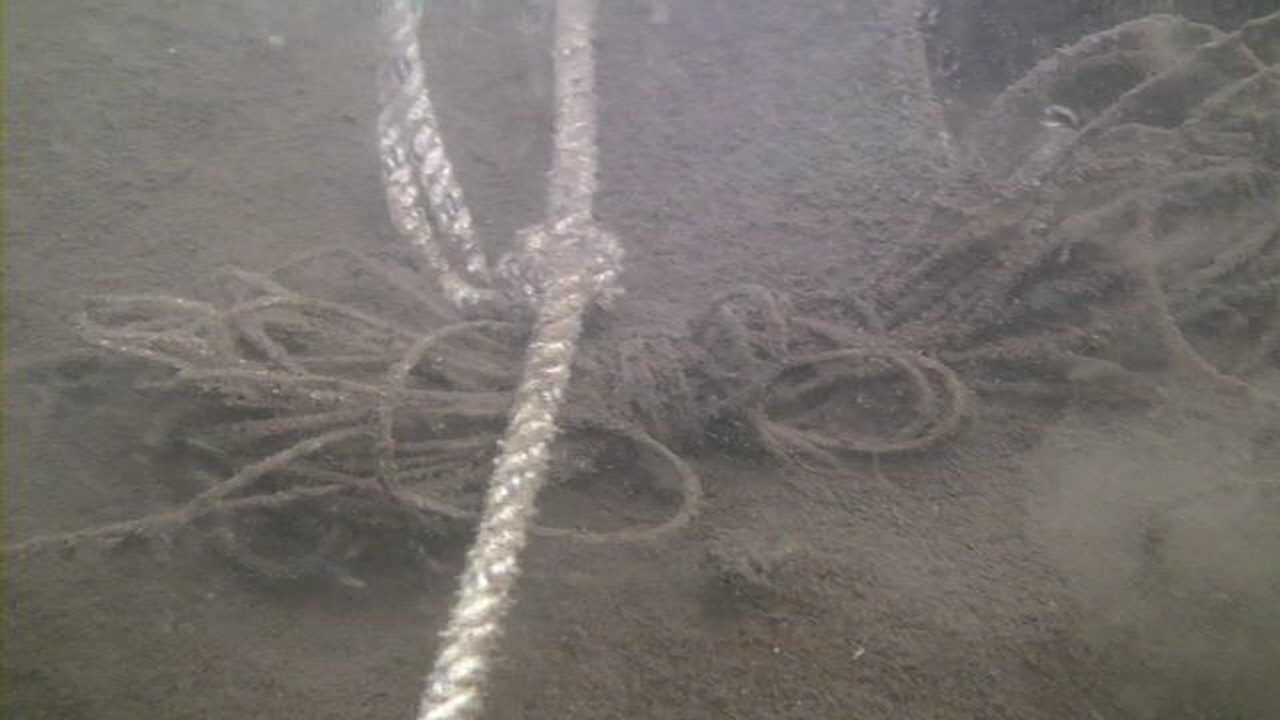bundle of ropes: (0, 9, 1280, 589), (373, 0, 604, 719)
